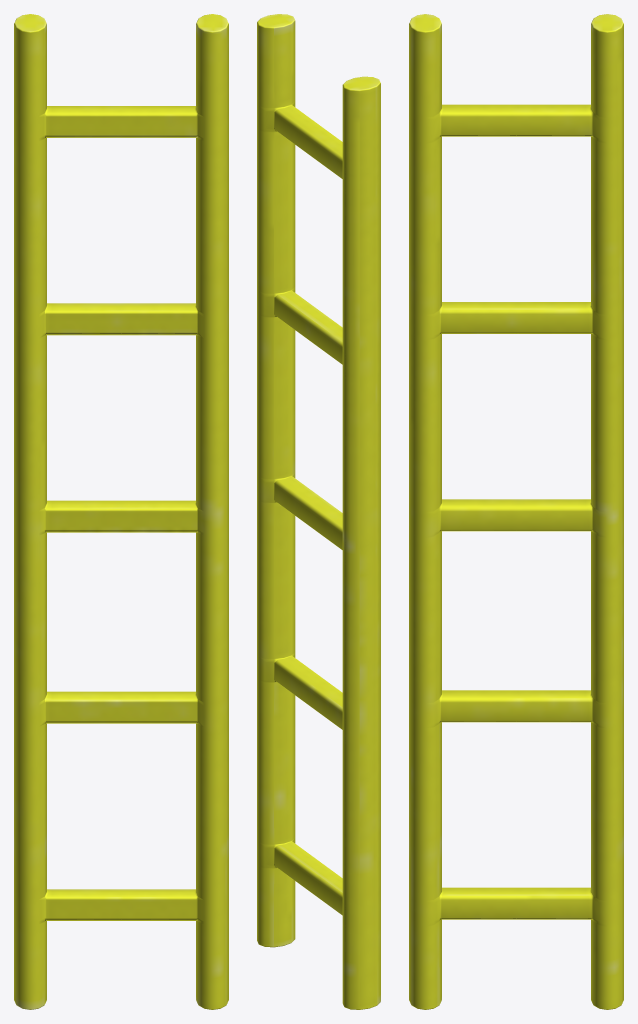
File: Ladder.glb
3 views of the same model, side by side, from view 1: azimuth 90°, elevation 25°; view 2: azimuth 210°, elevation 25°; view 3: azimuth 270°, elevation 25° (orthographic). The views are drawn at different scales.
Visible parts, largest first — view 1: ladderStep; view 2: ladderStep; view 3: ladderStep.
Part boxes in pixels (x1=…): ladderStep: x1=14, y1=14, x2=228, y2=1009; ladderStep: x1=257, y1=14, x2=380, y2=1009; ladderStep: x1=409, y1=14, x2=623, y2=1009.
Bounding box in the file's own units: 0.2926 × 7.28 × 1.45.
Materials: 1 (1 with a texture image).
